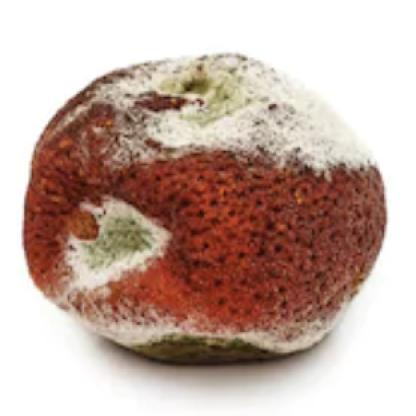rotten: (23, 53, 389, 368)
